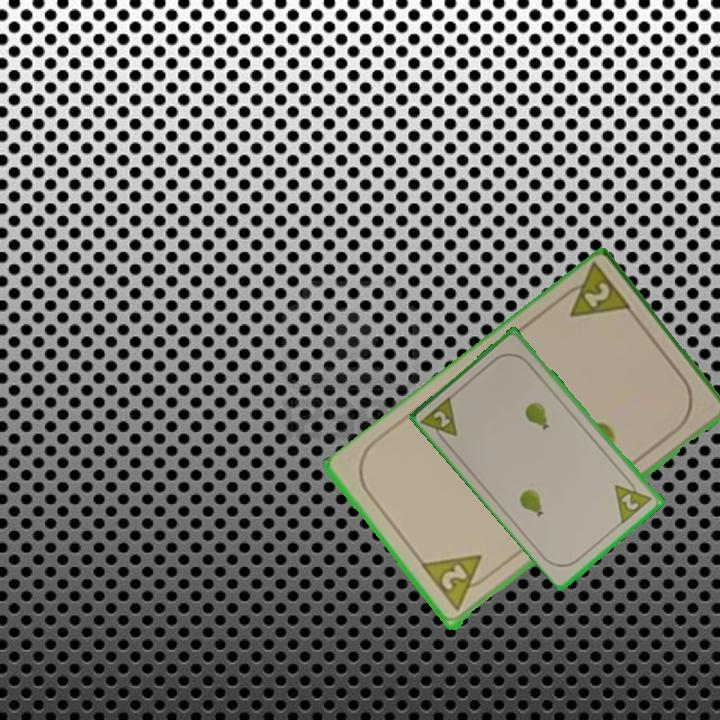2p: (553, 261, 636, 322), (418, 551, 497, 615), (611, 472, 656, 526), (418, 392, 461, 448)
